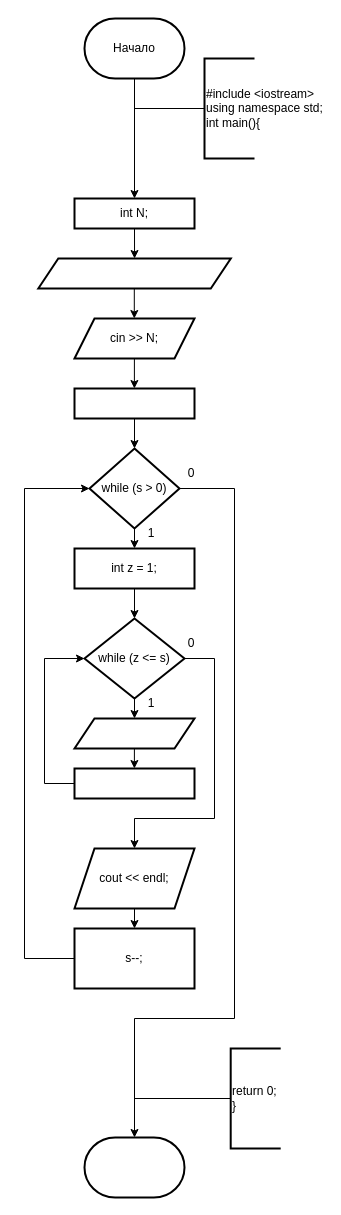
This 341x1215 diagram has some shape labels left out. The shapes that lost their labels are listed below. From the top down, each one's centre as x and y in pixels, then its label:
(134,273): cout << "Введите N: ";
(134,403): int s = N;
(134,733): cout << "*";
(134,783): z++;
(134,1167): Конец
